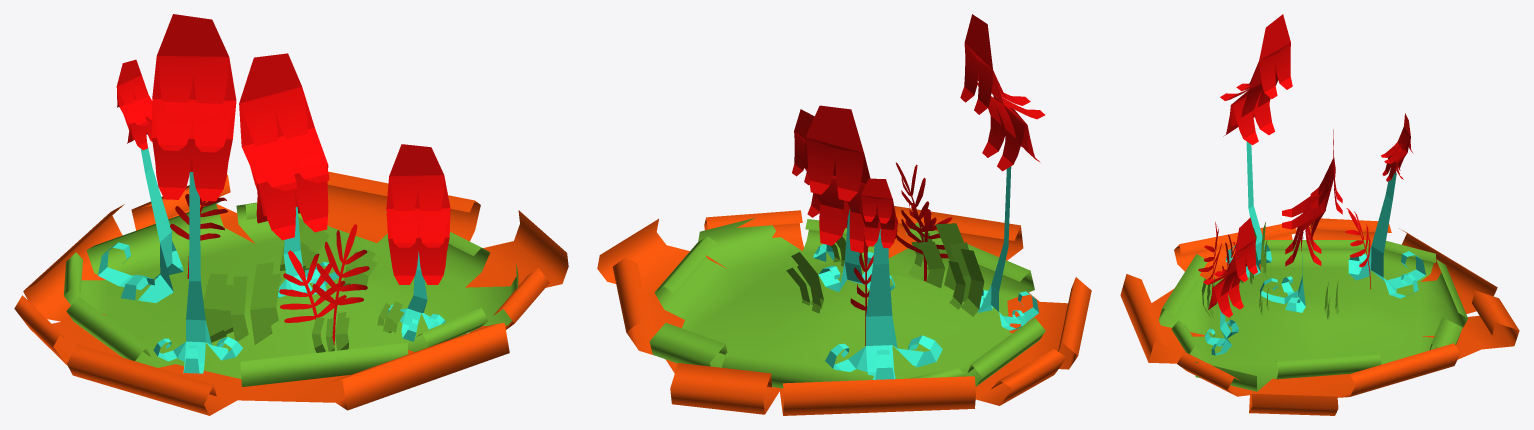
File: trees-spot.FBX
The picture shows the model from 3 angles, left to right: view 1: azimuth 30°, elevation 25°; view 2: azimuth 150°, elevation 25°; view 3: azimuth 270°, elevation 25°; orthographic projection. The views are drawn at different scales.
Visible parts, largest first — view 1: Box001, Box022, Tree008, Tree005, Tree006, tree_base004, tree_base003, Tree007, Line019, Line012, Box016, tree_base002 (+5 smaller); view 2: Box001, Box022, Tree005, Tree008, tree_base003, Tree007, tree_base004, tree_base001, Tree006, Line012, Box013, Box016 (+5 smaller); view 3: Box001, Box022, Tree008, tree_base003, Tree005, Tree006, tree_base004, tree_base001, Tree007, tree_base002, Line011.
Boxes of the visible parts, x1,y1,x2,y2 form: Box001: (63,201,518,386); Box022: (14,171,568,415); Tree008: (152,14,236,201); Tree005: (239,53,329,240); Tree006: (386,144,450,284); tree_base004: (153,172,242,373); tree_base003: (98,144,183,302); Tree007: (116,59,152,150); Line019: (312,224,369,345); Line012: (279,250,346,334); Box016: (250,262,274,344); tree_base002: (387,251,445,341); Box001: (649,217,1045,388); Box022: (597,206,1091,415); Tree005: (804,105,870,252); Tree008: (960,14,1045,171); tree_base003: (825,229,942,379); Tree007: (859,178,897,248); tree_base004: (977,166,1039,330); tree_base001: (818,209,894,291); Tree006: (792,109,819,217); Line012: (896,203,952,281); Box013: (961,249,984,316); Box016: (935,223,963,290); Box001: (1158,240,1467,391); Box022: (1120,218,1519,415); Tree008: (1220,14,1292,145); tree_base003: (1348,172,1425,298); Tree005: (1282,129,1342,266); Tree006: (1203,217,1257,317); tree_base004: (1225,141,1272,277); tree_base001: (1260,232,1305,312); Tree007: (1381,113,1413,181); tree_base002: (1204,310,1238,355); Line011: (1345,208,1370,289).
Bounding box in the file's own units: 697 × 488 × 649.
